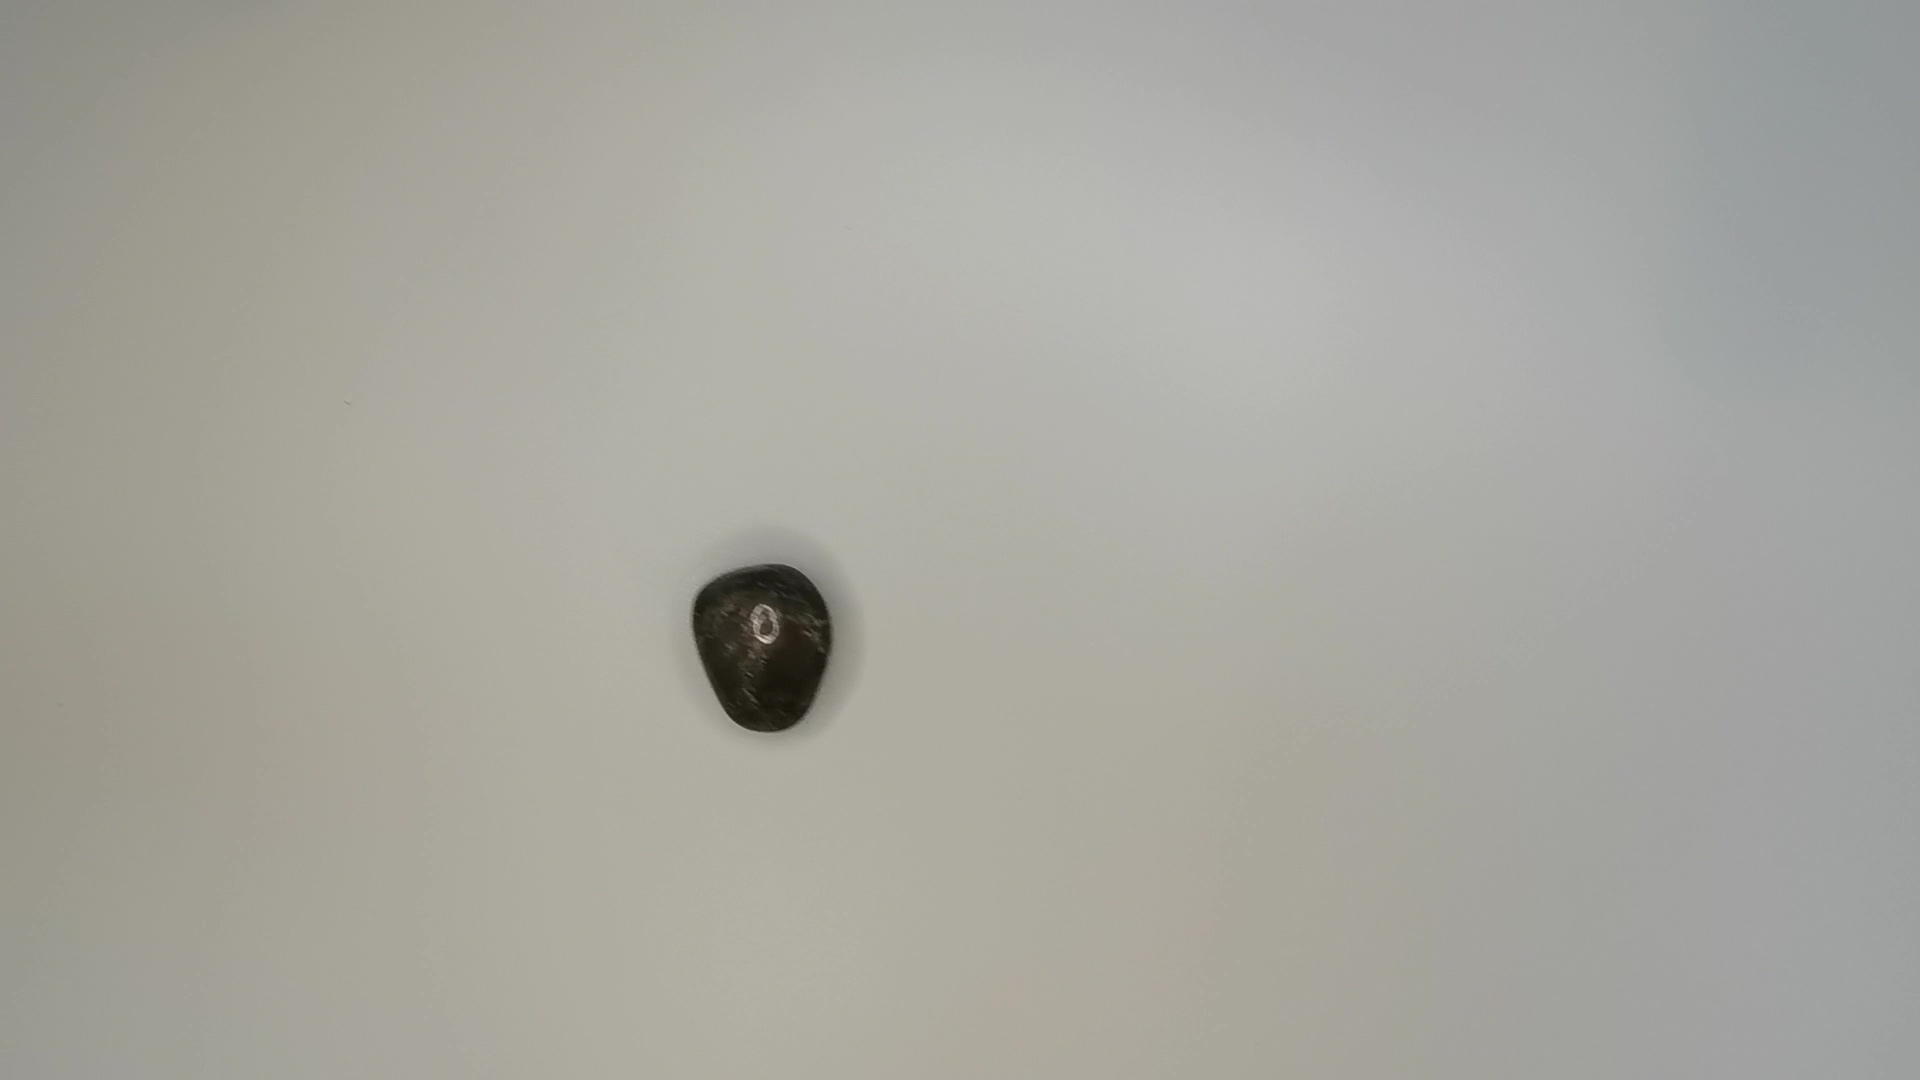ceramic: (688, 560, 833, 742)
